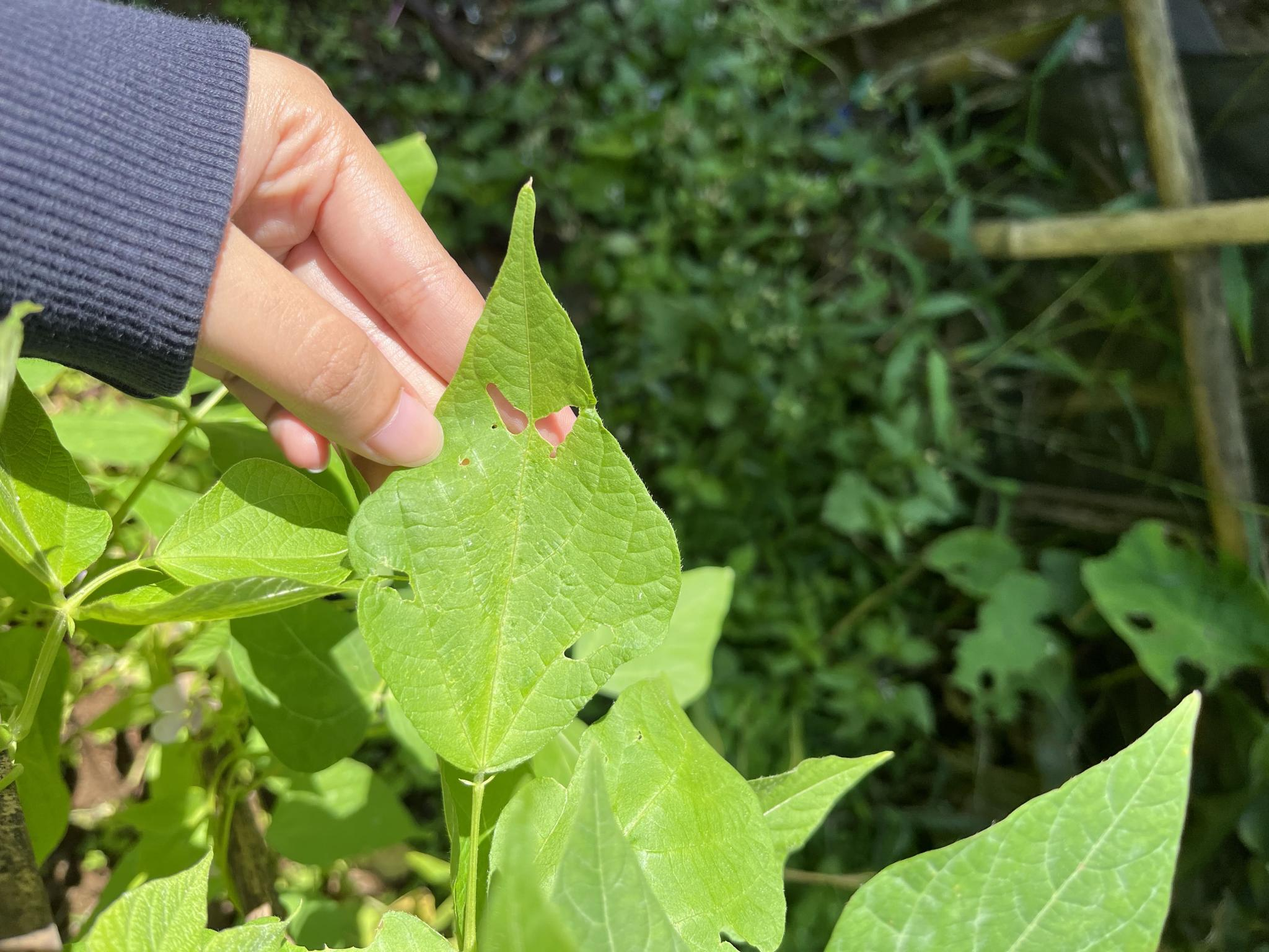mozaik: (474, 375, 526, 453), (535, 406, 600, 461), (371, 564, 422, 602)
